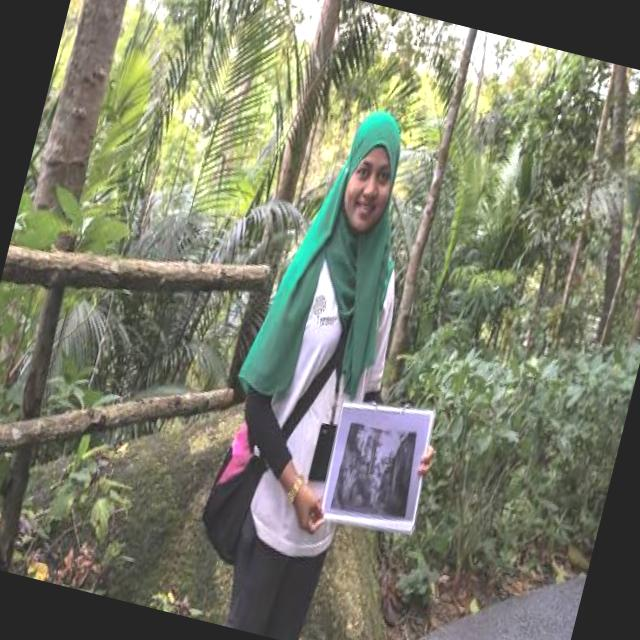Person: (172, 77, 453, 640)
